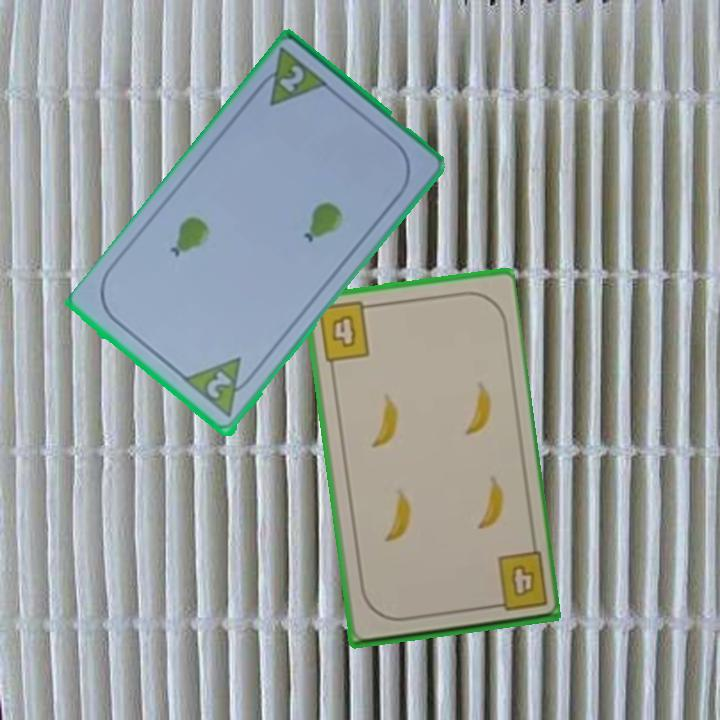2p: (250, 45, 333, 110), (202, 368, 235, 403)
4b: (485, 548, 550, 614), (314, 298, 376, 365)
